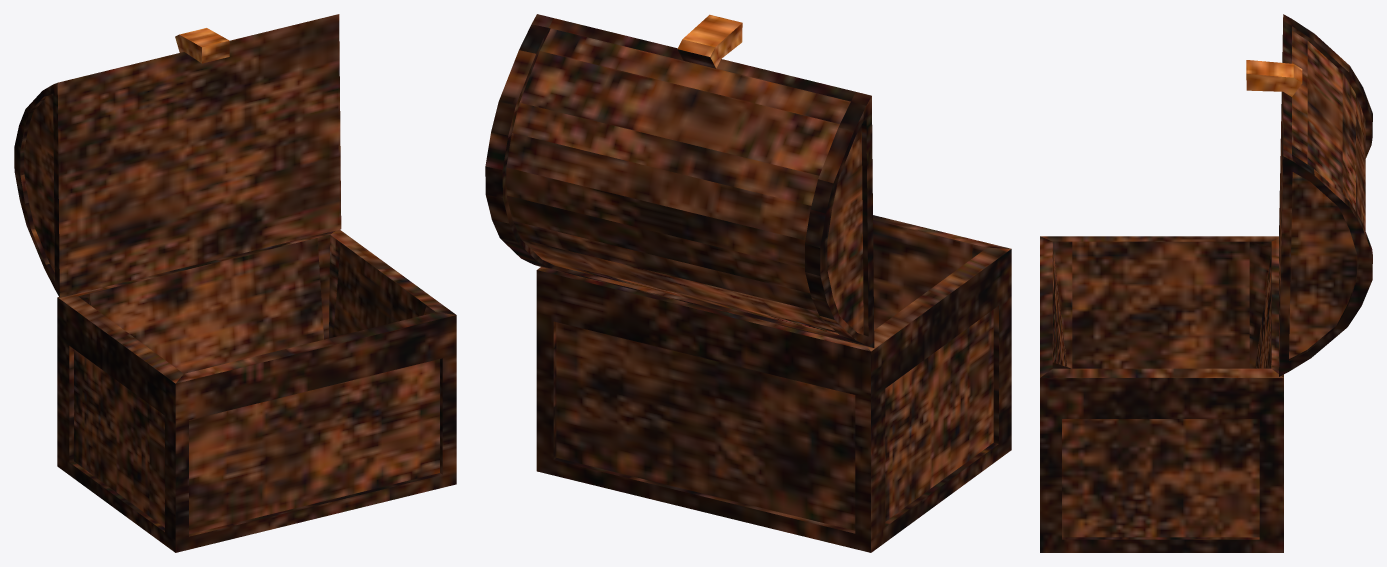
The model's file is OpenTier3Chest.glb.
3 views of the same model, side by side, from view 1: azimuth 30°, elevation 25°; view 2: azimuth 150°, elevation 25°; view 3: azimuth 270°, elevation 25° (orthographic). The views are drawn at different scales.
Parts seen in each view (by area): view 1: OpenTier3Chest; view 2: OpenTier3Chest; view 3: OpenTier3Chest.
Part boxes in pixels (x1,y1,x2,y2): OpenTier3Chest: (14,14,456,552); OpenTier3Chest: (485,14,1011,552); OpenTier3Chest: (1040,14,1372,552).
Size of the model in its own units: 0.686 by 0.9352 by 0.6799.
Materials: 3 (3 with a texture image).
